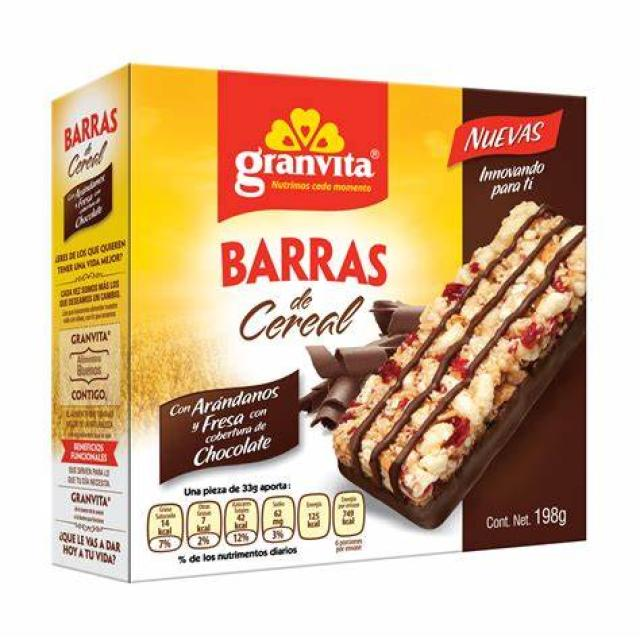Caja: (35, 65, 592, 587)
